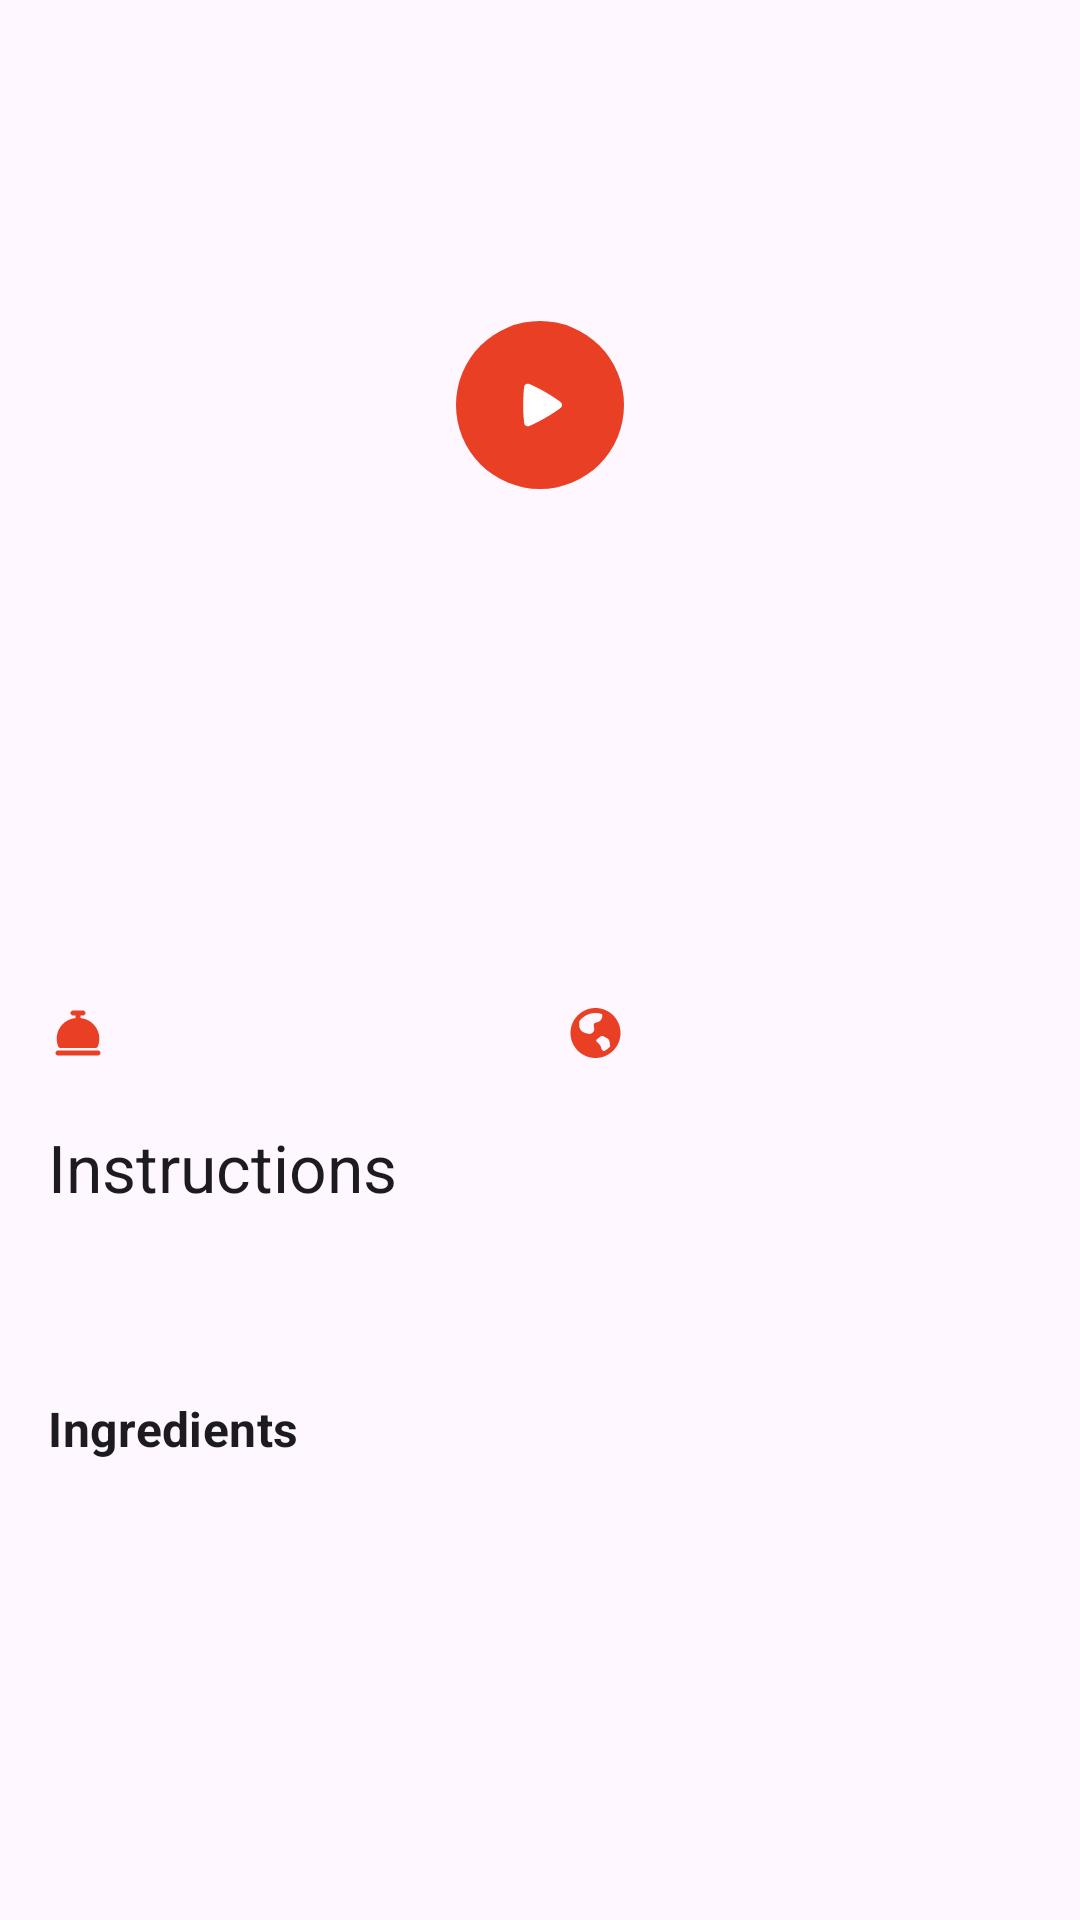

Screen size 1080*1920. Icon name, then its box in pixels as (x1, y1, x2, y2):
play: (456, 321, 624, 489)
